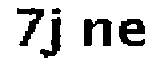7: (14, 6, 44, 47)
e: (118, 16, 151, 50)
j: (43, 3, 69, 60)
n: (79, 14, 115, 49)
